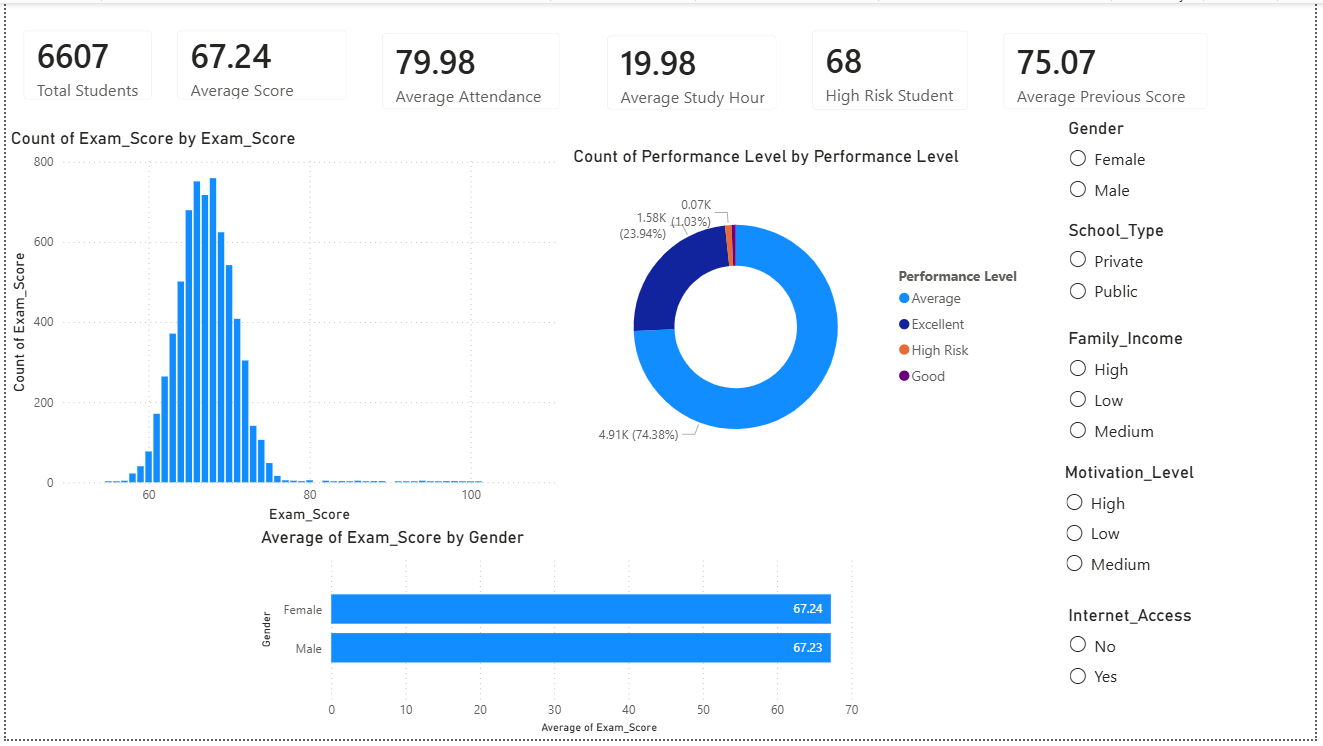

The dashboard page shown, as its layout file describes it:
{"tool":"powerbi","page":{"name":"Overview","canvas":[1280,720],"ordinal":0},"visuals":[{"type":"cardVisual","fields":{"Data":["StudentPerformanceFactors.Total Students"]},"box":[0,9.9,160.2,102.3],"z":0},{"type":"cardVisual","fields":{"Data":["StudentPerformanceFactors.Average Score"]},"box":[150.3,9.9,200.8,102.3],"z":1000},{"type":"cardVisual","fields":{"Data":["StudentPerformanceFactors.Average Attendance"]},"box":[351.2,12.3,208.2,109.7],"z":2000},{"type":"cardVisual","fields":{"Data":["StudentPerformanceFactors.Average Study Hour"]},"box":[570.5,14.8,200.8,107.2],"z":3000},{"type":"cardVisual","fields":{"Data":["StudentPerformanceFactors.High Risk Student"]},"box":[771.4,9.9,187.3,112.1],"z":4000},{"type":"cardVisual","fields":{"Data":["StudentPerformanceFactors.Average Previous Score"]},"box":[958.6,12.3,234.1,109.7],"z":5000},{"type":"columnChart","fields":{"Category":["StudentPerformanceFactors.Exam_Score"],"Y":["CountNonNull(StudentPerformanceFactors.Exam_Score)"]},"box":[0,122,549.6,390.6],"z":6000},{"type":"donutChart","fields":{"Category":["StudentPerformanceFactors.Performance Level"],"Y":["CountNonNull(StudentPerformanceFactors.Performance Level)"]},"box":[550,140,457.5,336.2],"z":7000},{"type":"barChart","fields":{"Category":["StudentPerformanceFactors.Gender"],"Y":["Avg(StudentPerformanceFactors.Exam_Score)"]},"box":[245,512.5,610,207.5],"z":8000},{"type":"listSlicer","fields":{"Values":["StudentPerformanceFactors.Gender"]},"box":[1035,112.5,137.5,98.8],"z":8001},{"type":"listSlicer","fields":{"Values":["StudentPerformanceFactors.School_Type"]},"box":[1035,211.2,157.5,118.8],"z":8002},{"type":"listSlicer","fields":{"Values":["StudentPerformanceFactors.Family_Income"]},"box":[1035,317.5,157.5,131.2],"z":8003},{"type":"listSlicer","fields":{"Values":["StudentPerformanceFactors.Motivation_Level"]},"box":[1031.2,448.8,165,118.8],"z":8004},{"type":"listSlicer","fields":{"Values":["StudentPerformanceFactors.Internet_Access"]},"box":[1035,588.8,185,101.2],"z":8005}]}

Visuals, with their boxes in screenshot pixels (x1, y1, x2, y2), scaled from the page's 1280x720 canvas onto the 1323x746 screenshot:
cardVisual - StudentPerformanceFactors.Total Students: [left=0, top=10, right=166, bottom=116]
cardVisual - StudentPerformanceFactors.Average Score: [left=155, top=10, right=363, bottom=116]
cardVisual - StudentPerformanceFactors.Average Attendance: [left=363, top=13, right=578, bottom=126]
cardVisual - StudentPerformanceFactors.Average Study Hour: [left=590, top=15, right=797, bottom=126]
cardVisual - StudentPerformanceFactors.High Risk Student: [left=797, top=10, right=991, bottom=126]
cardVisual - StudentPerformanceFactors.Average Previous Score: [left=991, top=13, right=1233, bottom=126]
columnChart - StudentPerformanceFactors.Exam_Score x CountNonNull(StudentPerformanceFactors.Exam_Score): [left=0, top=126, right=568, bottom=531]
donutChart - StudentPerformanceFactors.Performance Level x CountNonNull(StudentPerformanceFactors.Performance Level): [left=568, top=145, right=1041, bottom=493]
barChart - StudentPerformanceFactors.Gender x Avg(StudentPerformanceFactors.Exam_Score): [left=253, top=531, right=884, bottom=745]
listSlicer - StudentPerformanceFactors.Gender: [left=1070, top=117, right=1212, bottom=219]
listSlicer - StudentPerformanceFactors.School_Type: [left=1070, top=219, right=1233, bottom=342]
listSlicer - StudentPerformanceFactors.Family_Income: [left=1070, top=329, right=1233, bottom=465]
listSlicer - StudentPerformanceFactors.Motivation_Level: [left=1066, top=465, right=1236, bottom=588]
listSlicer - StudentPerformanceFactors.Internet_Access: [left=1070, top=610, right=1261, bottom=715]
